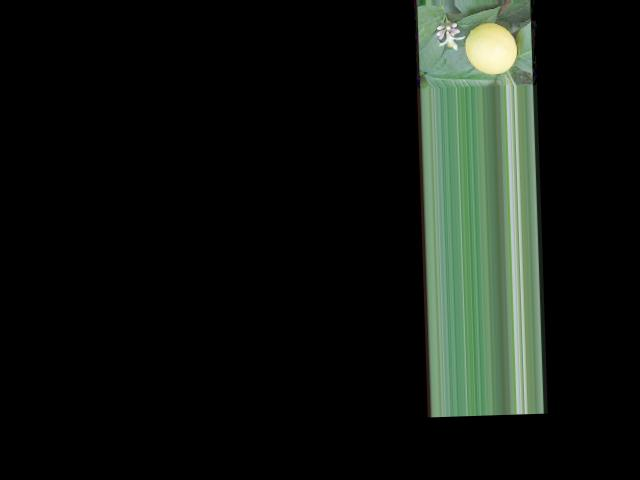lemon: (463, 22, 521, 77)
